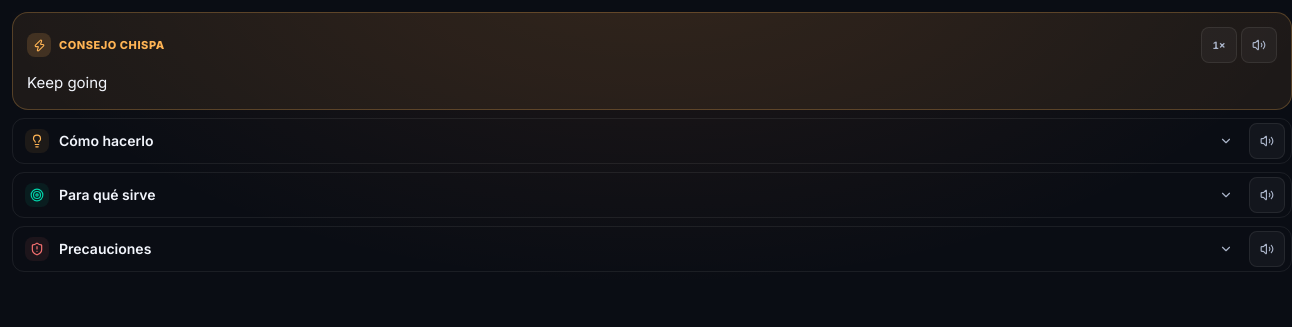
Test: ExerciseExplainer › only shows one section open at a time
The image size is (1292, 327).
Click the button "Cómo hacerlo": (106, 141) [13,119,1245,163]
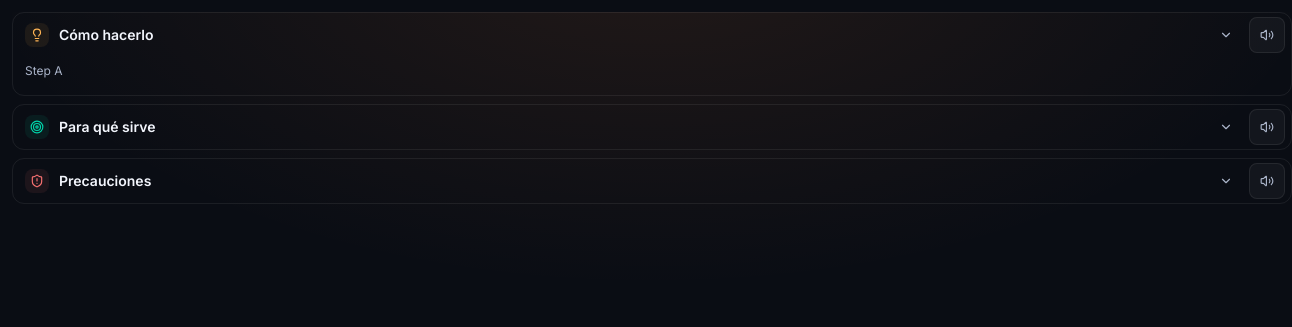
Expected: the text "Step A" is shown, [25,63,62,78]
Click the button "Para qué sirve": (107, 126) [13,104,1245,148]
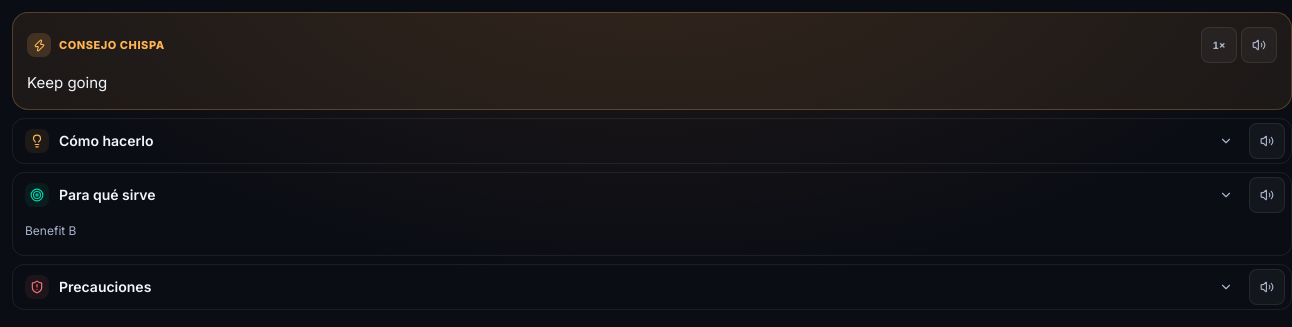
Expected: the text "Benefit B" is shown, [25,223,76,238]
